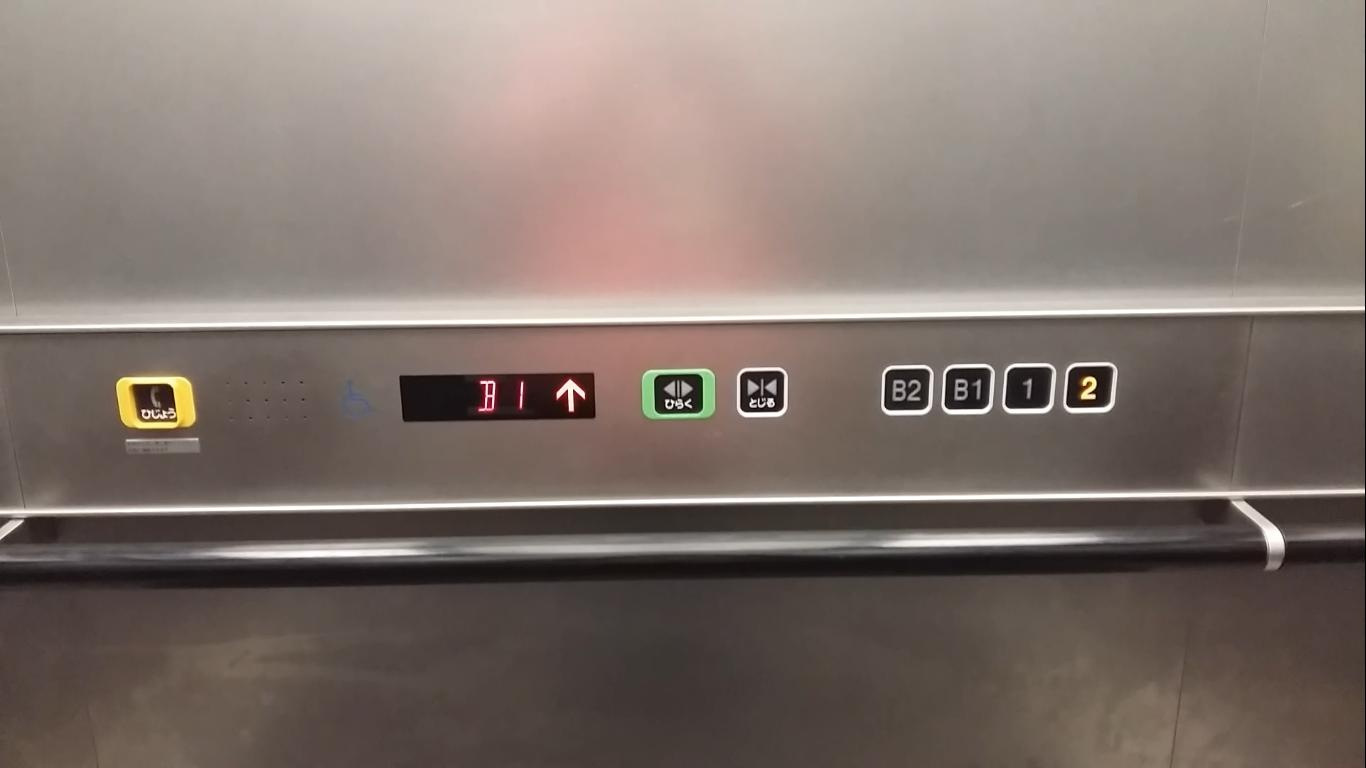1: (1001, 360, 1057, 418)
2: (1061, 358, 1120, 417)
B1: (940, 361, 996, 419)
B2: (879, 362, 935, 420)
call: (112, 372, 202, 434)
close: (732, 365, 791, 421)
led: (395, 369, 600, 425)
open: (636, 365, 721, 423)
